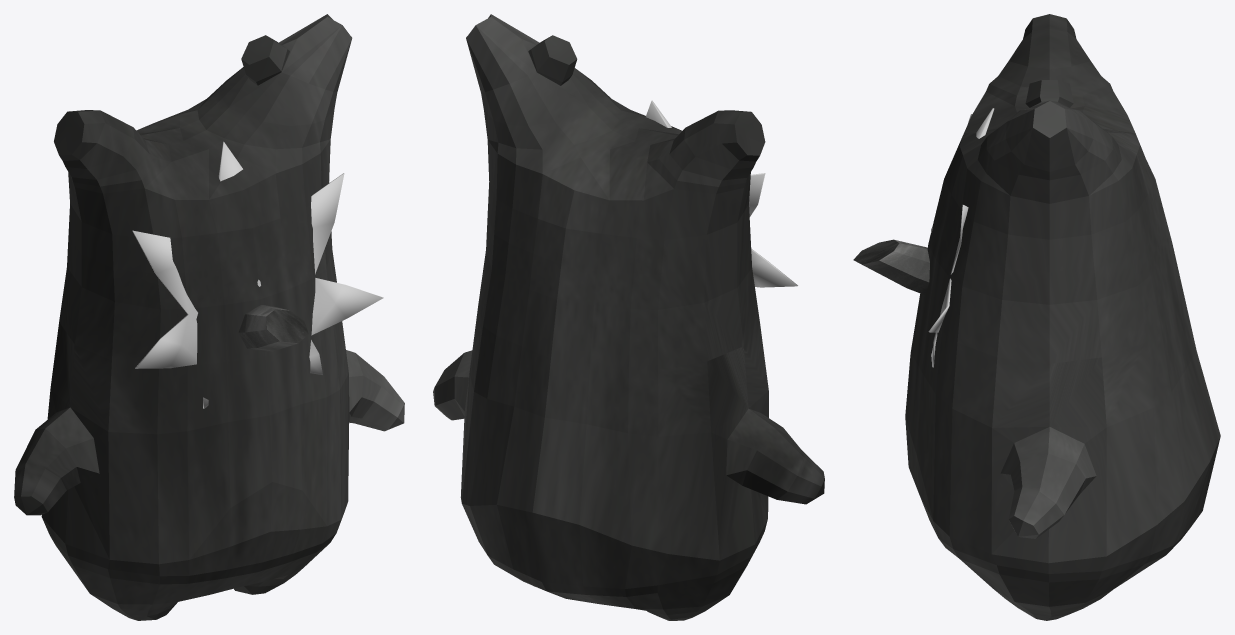
Rendered from frame_0008.obj.
The picture shows the model from 3 angles, left to right: view 1: azimuth 30°, elevation 25°; view 2: azimuth 150°, elevation 25°; view 3: azimuth 270°, elevation 25°; orthographic projection.
Visible parts, largest first — view 1: korok, leaf, nose.003_柱体.011; view 2: korok, leaf; view 3: korok, nose.003_柱体.011, leaf.
Boxes of the visible parts, x1,y1,x2,y2 form: korok: (14, 14, 404, 620); leaf: (132, 141, 383, 408); nose.003_柱体.011: (238, 305, 308, 351); korok: (433, 14, 824, 620); leaf: (646, 100, 797, 287); korok: (905, 14, 1220, 620); nose.003_柱体.011: (853, 239, 929, 294); leaf: (928, 108, 994, 367).
Size of the model in its own units: 1.64 by 2.25 by 1.36.
